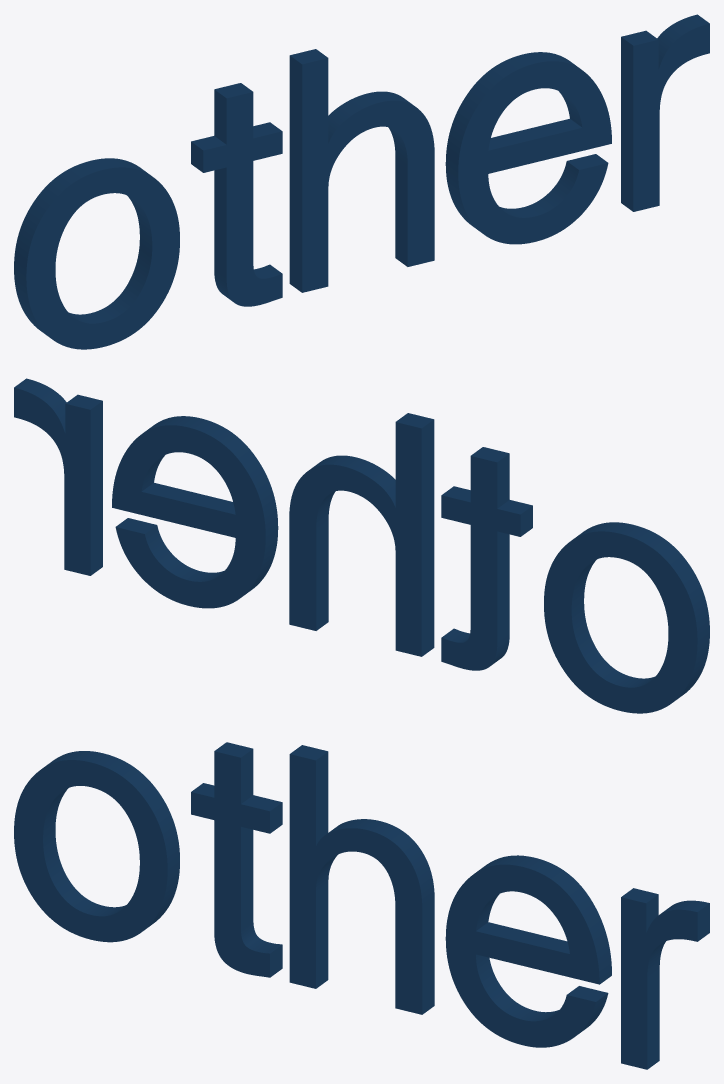
Rendered from other.glb.
The picture shows the model from 3 angles, top to bottom: view 1: azimuth 30°, elevation 25°; view 2: azimuth 150°, elevation 25°; view 3: azimuth 330°, elevation 25°; orthographic projection.
Parts seen in each view (by area): view 1: mesh_0; view 2: mesh_0; view 3: mesh_0.
Part boxes in pixels (x1,y1,x2,y2): mesh_0: [14, 14, 709, 349]; mesh_0: [14, 378, 709, 713]; mesh_0: [14, 742, 709, 1069].
Size of the model in its own units: 3.17 by 1.04 by 0.0999.
